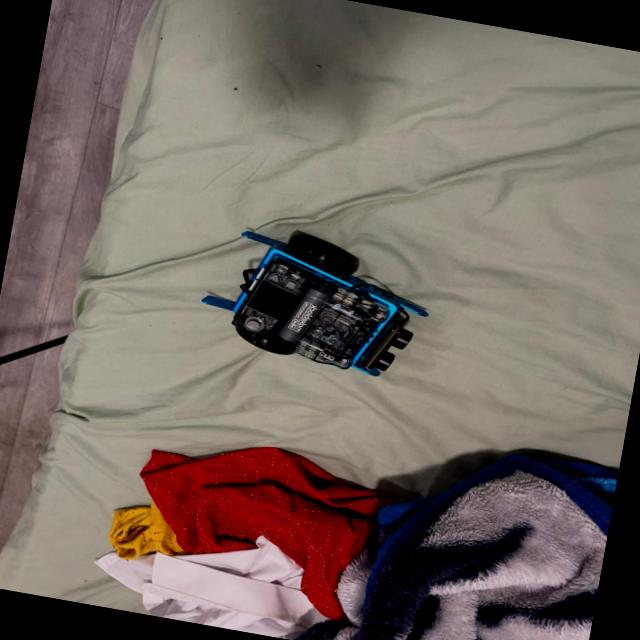mbot-detection: (185, 211, 448, 392)
